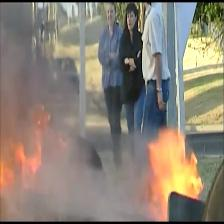fire: (138, 124, 223, 219)
smoke: (0, 4, 116, 221)
